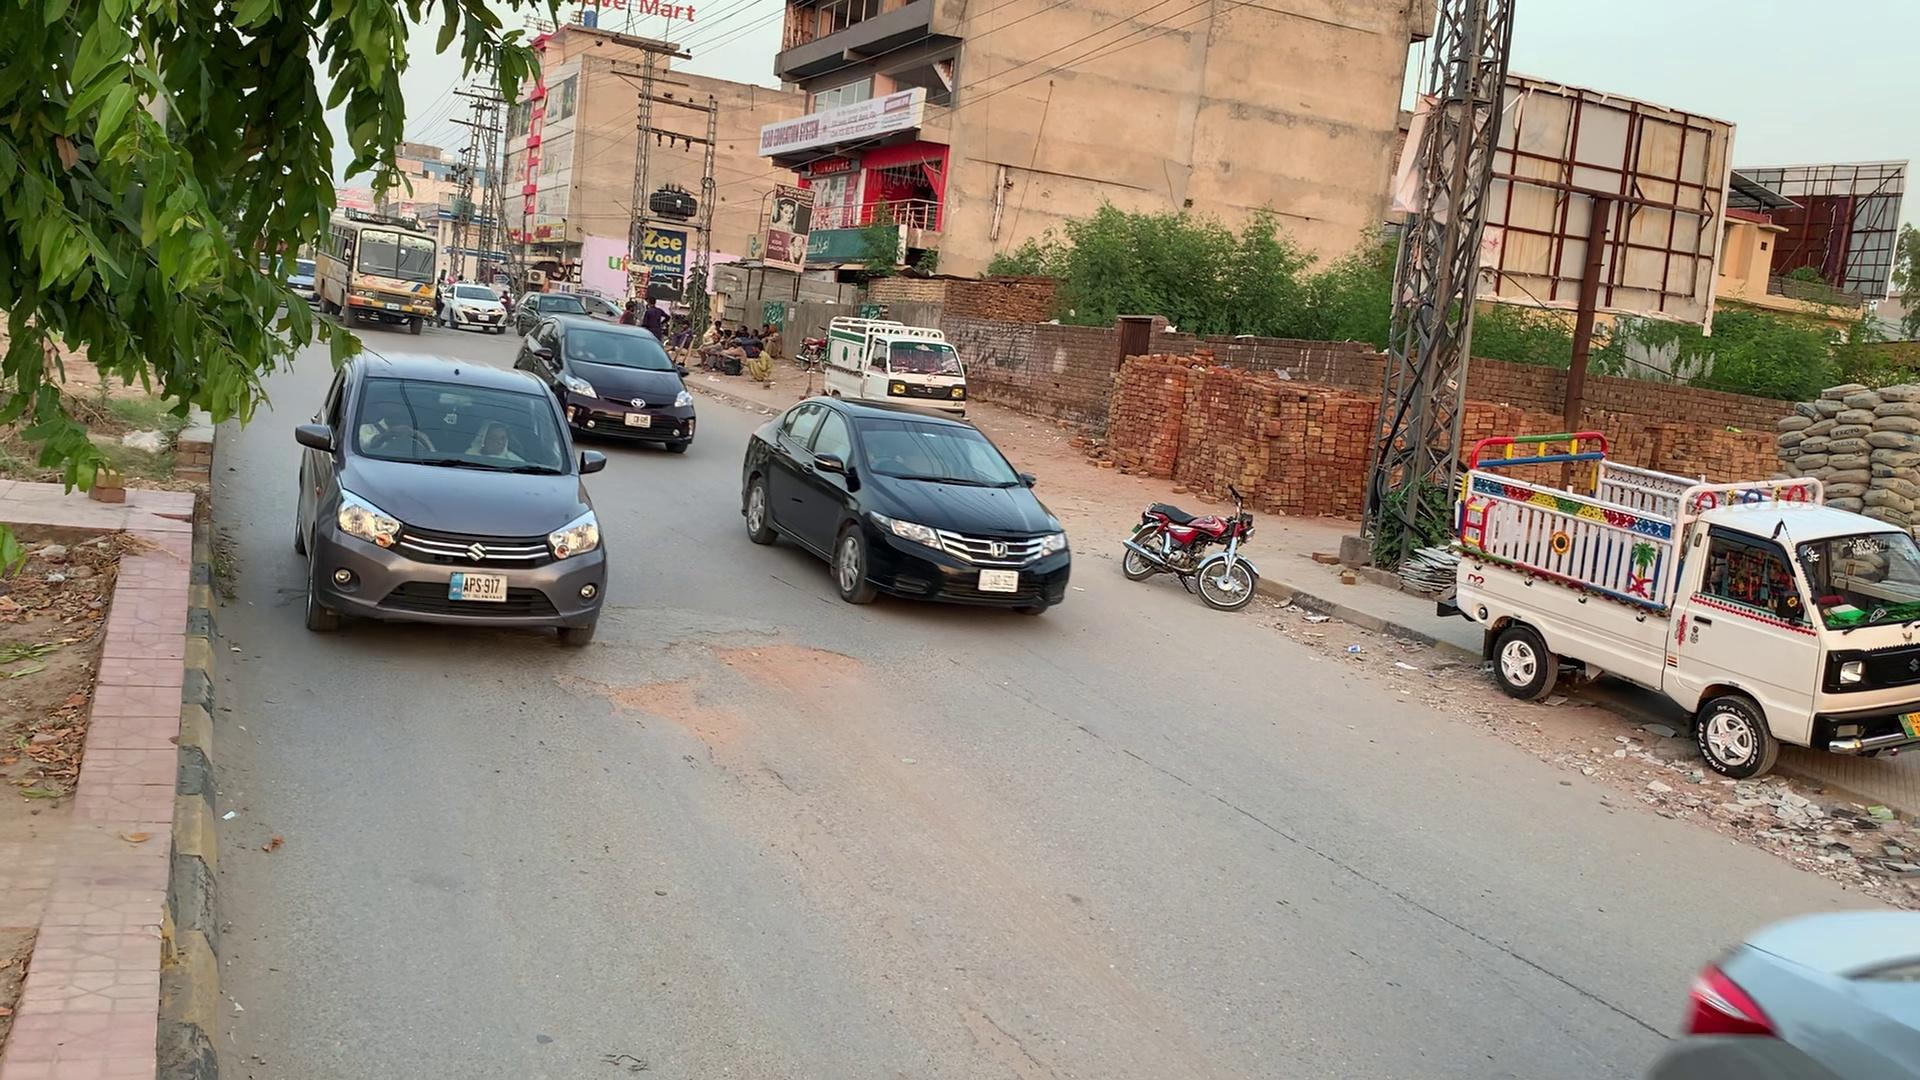windshield: (348, 356, 578, 480)
